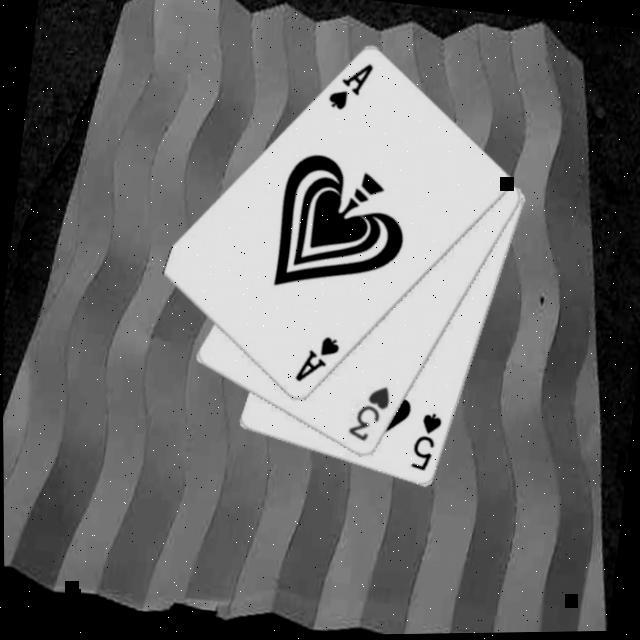3H: (341, 378, 392, 446)
5S: (404, 408, 444, 474)
AS: (322, 54, 376, 116), (288, 329, 342, 389)
